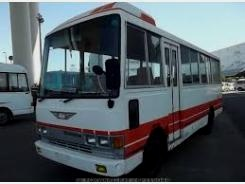bus: (34, 1, 225, 176)
